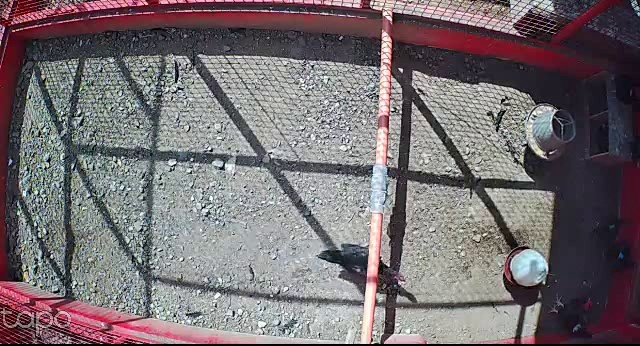Chicken: (310, 232, 411, 290), (591, 214, 628, 267), (606, 241, 638, 277)
Drinker: (504, 244, 550, 288)
Feeder: (525, 101, 578, 163)
Rooster: (536, 293, 597, 341)
Saddle_Color_Blue: (617, 252, 627, 261)
